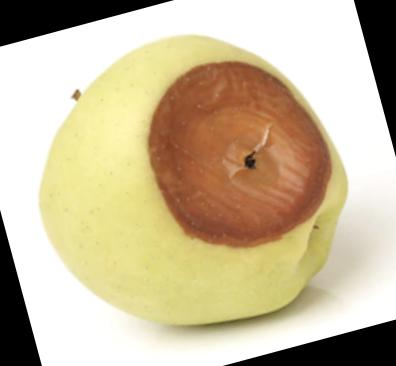Apple: (37, 35, 349, 327)
